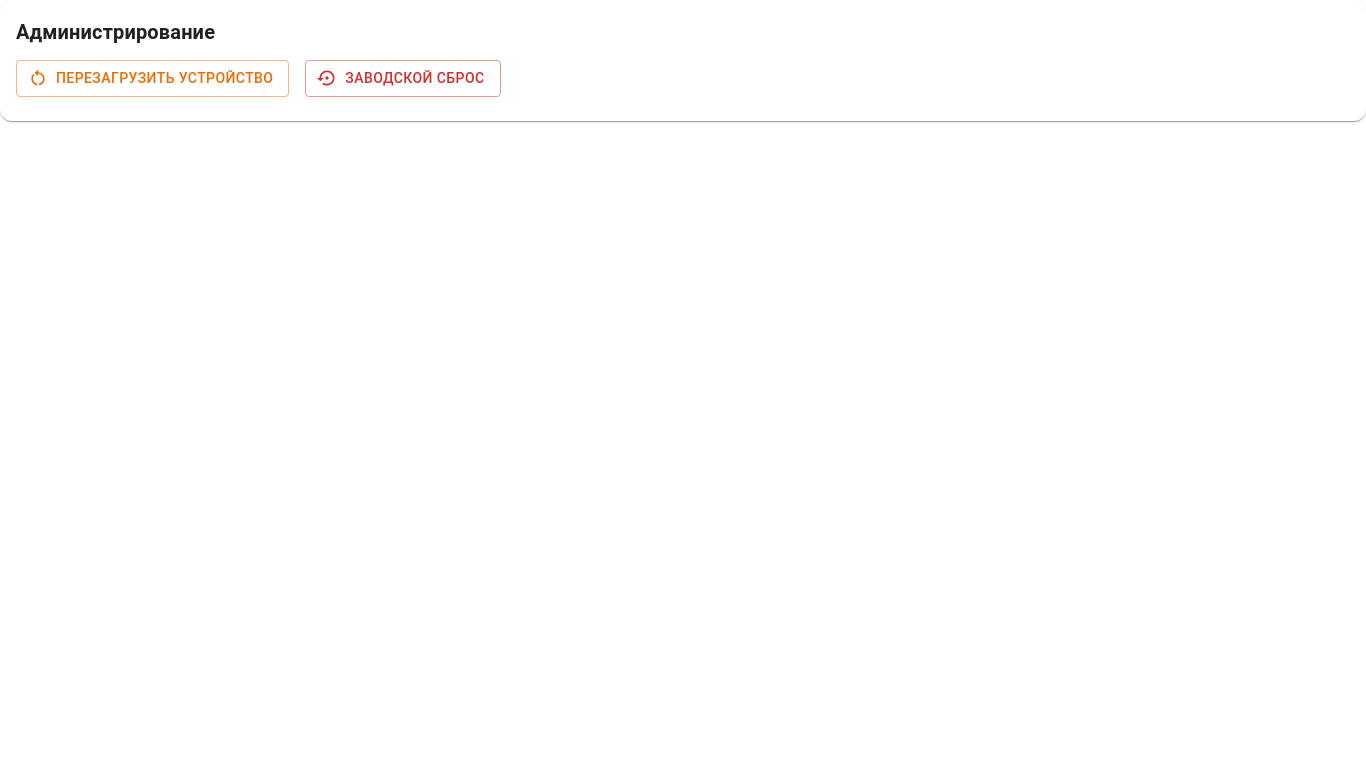
Scenario: AdminPanel factory reset (v1.1.2) › 1.1.2: confirm with the history box → factory-reset, keep when unticked
Later steps or results of the test are not shown.
Click the button "Заводской сброс" at (403, 78), box [305,60,500,96]
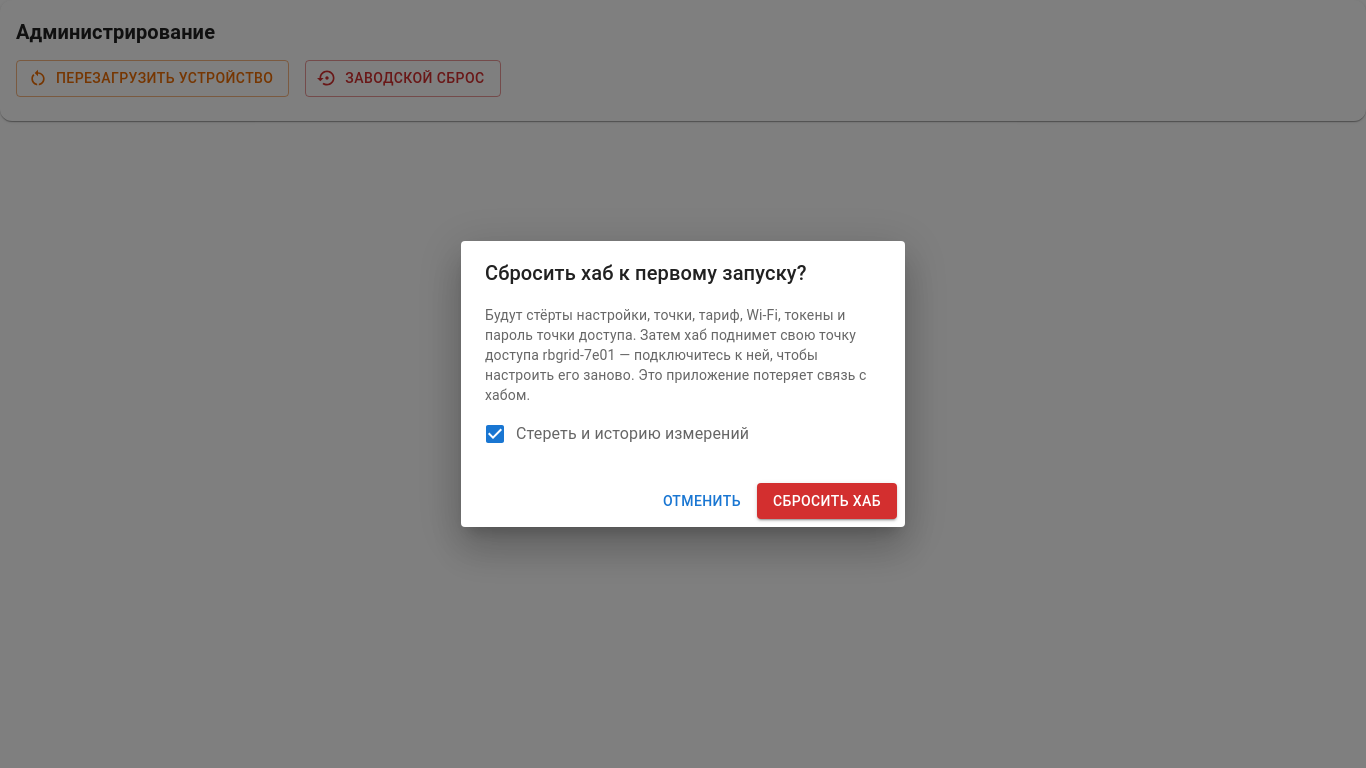
expect the text "rbgrid-7e01" is shown: met, box [485,307,866,403]
